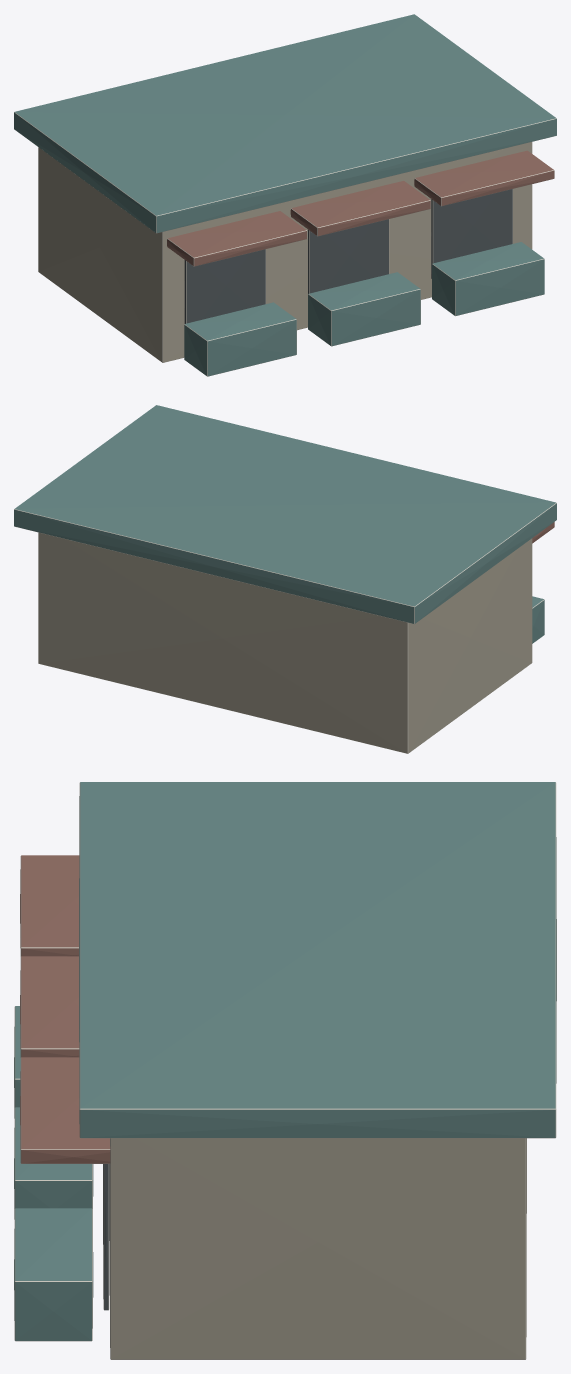
File: prop_market_hall.glb
3 renders of one model, top to bottom at view 1: azimuth 30°, elevation 25°; view 2: azimuth 150°, elevation 25°; view 3: azimuth 270°, elevation 25°, orthographic. The views are drawn at different scales.
Visible parts, largest first — view 1: scenery_teal, scenery_cream, scenery_glass, scenery_coral; view 2: scenery_teal, scenery_cream; view 3: scenery_teal, scenery_cream, scenery_coral, scenery_glass.
Part boxes in pixels (x1=…): scenery_teal: x1=14, y1=14, x2=556, y2=376; scenery_cream: x1=38, y1=142, x2=532, y2=362; scenery_glass: x1=184, y1=189, x2=512, y2=323; scenery_coral: x1=167, y1=150, x2=554, y2=266; scenery_teal: x1=14, y1=405, x2=556, y2=643; scenery_cream: x1=38, y1=532, x2=532, y2=753; scenery_teal: x1=14, y1=782, x2=556, y2=1341; scenery_cream: x1=110, y1=1138, x2=526, y2=1359; scenery_coral: x1=20, y1=855, x2=110, y2=1163; scenery_glass: x1=103, y1=1164, x2=109, y2=1310.
Bounding box in the file's own units: 13 × 4.9 × 9.1.
